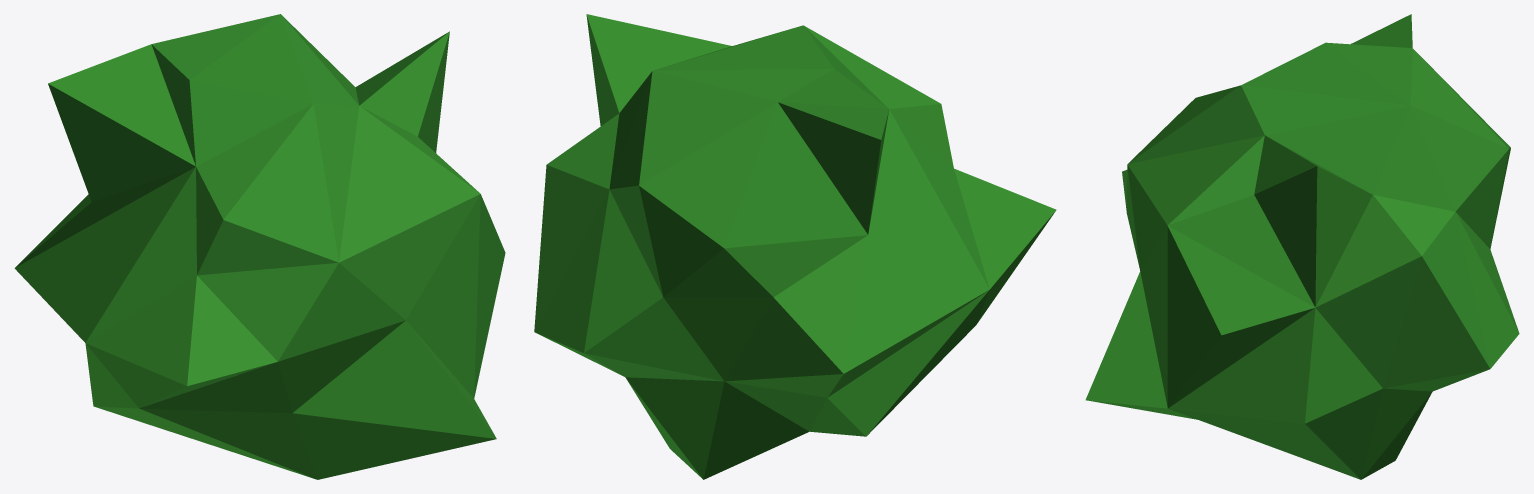
The model's file is bush.fbx.
The picture shows the model from 3 angles, left to right: view 1: azimuth 30°, elevation 25°; view 2: azimuth 150°, elevation 25°; view 3: azimuth 270°, elevation 25°; orthographic projection. The views are drawn at different scales.
Visible parts, largest first — view 1: bush; view 2: bush; view 3: bush.
Boxes of the visible parts, bbox=[...] form: bush: bbox=[14, 14, 505, 479]; bush: bbox=[534, 14, 1056, 479]; bush: bbox=[1085, 14, 1519, 479].
Bounding box in the file's own units: 0.7039 × 0.7103 × 0.7433.
